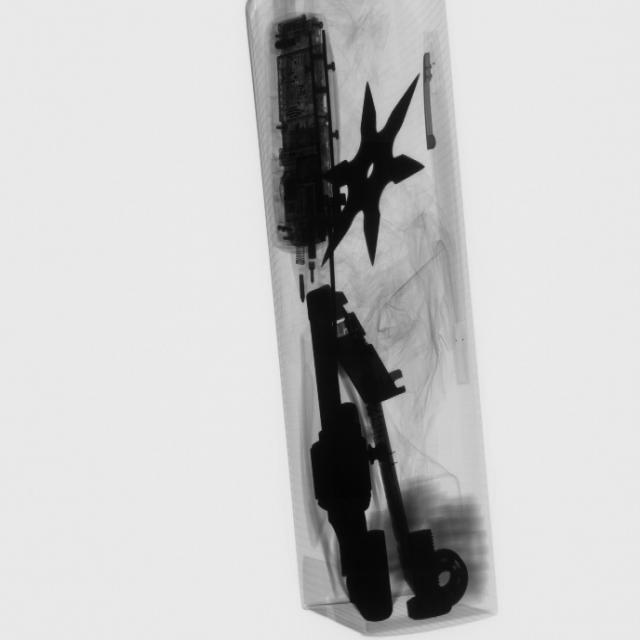GUN: (304, 282, 378, 620)
SHURIKEN: (320, 75, 422, 267)
